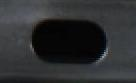holes: (29, 17, 109, 66)
